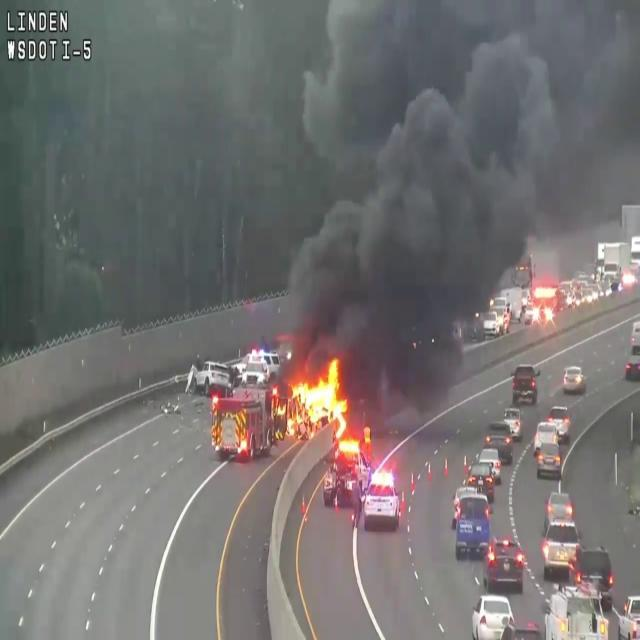Fire: (271, 356, 346, 424)
Smoke: (269, 1, 639, 338)
